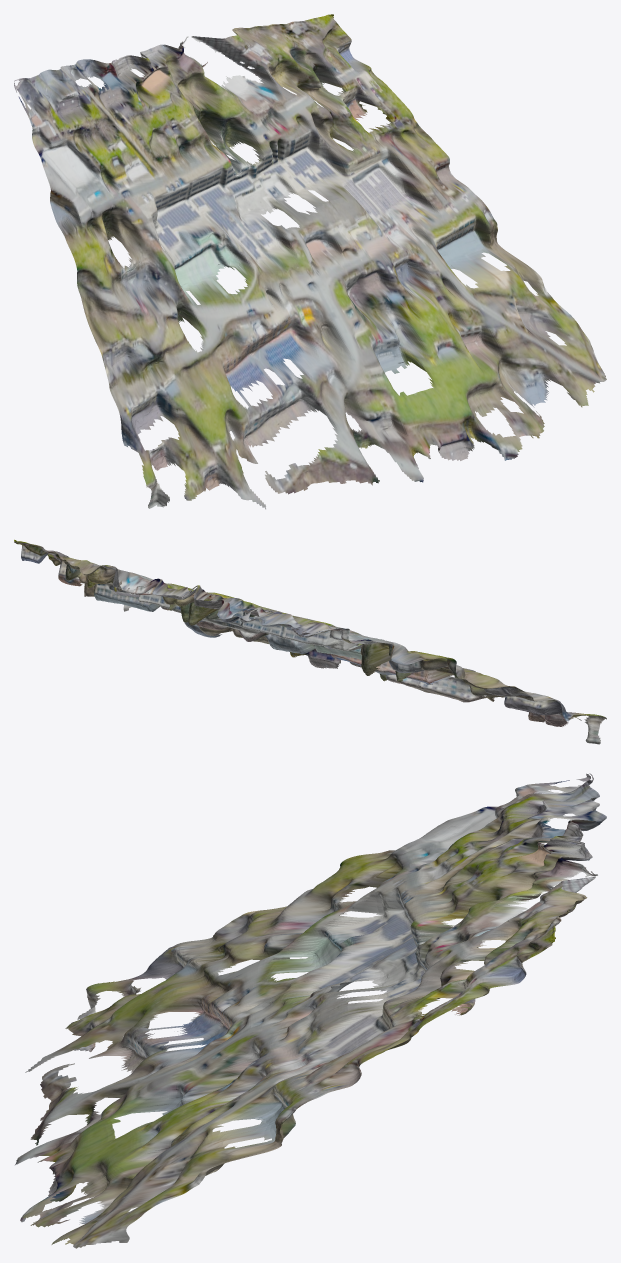
The model's file is map_clean.glb.
3 views of the same model, one above another, from view 1: azimuth 30°, elevation 25°; view 2: azimuth 150°, elevation 25°; view 3: azimuth 270°, elevation 25° (orthographic). The views are drawn at different scales.
Parts seen in each view (by area): view 1: geometry_0; view 2: geometry_0; view 3: geometry_0.
Boxes of the visible parts, x1,y1,x2,y2 form: geometry_0: (14,14,606,509); geometry_0: (14,539,606,744); geometry_0: (15,773,606,1248).
Bounding box in the file's own units: 0.5431 × 0.3 × 0.5201.
